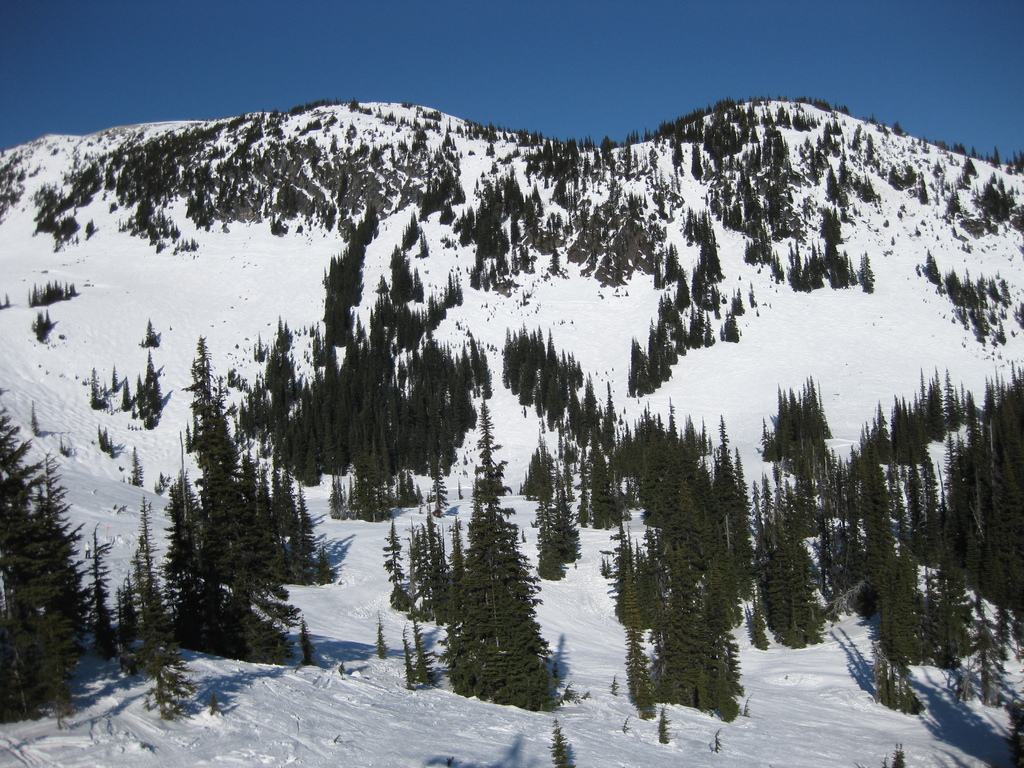Tree: (0, 97, 1023, 755)
